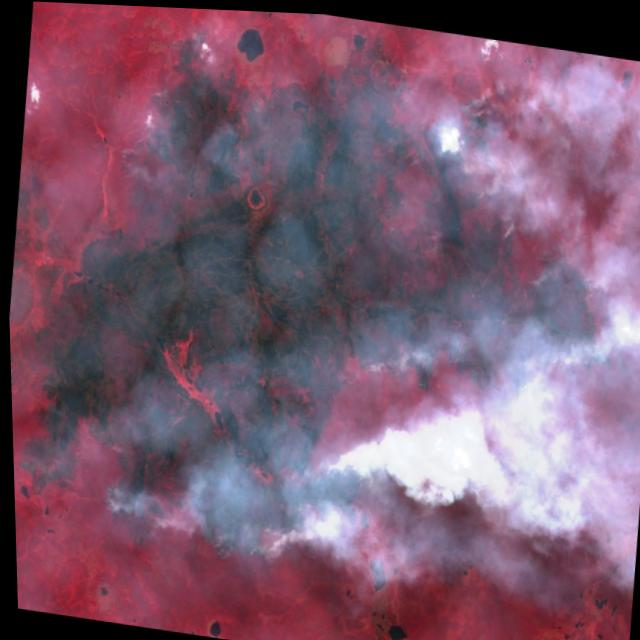fire: (0, 6, 636, 619)
